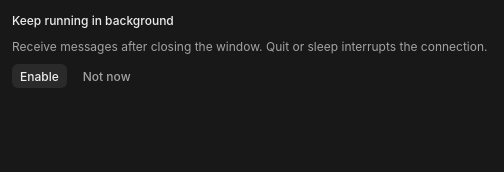
Test: offers background running without changing it until the person enables it, and retains errors for retry
Later steps or results of the test are not shown.
Click the button "Enable". click: (39, 76)
box: [12,64,67,88]
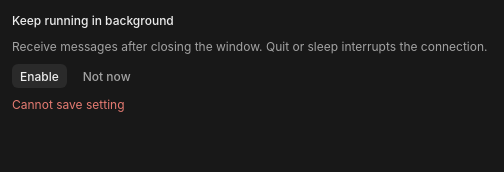
Expected: the text "Cannot save setting" is shown, [12,97,124,112]
